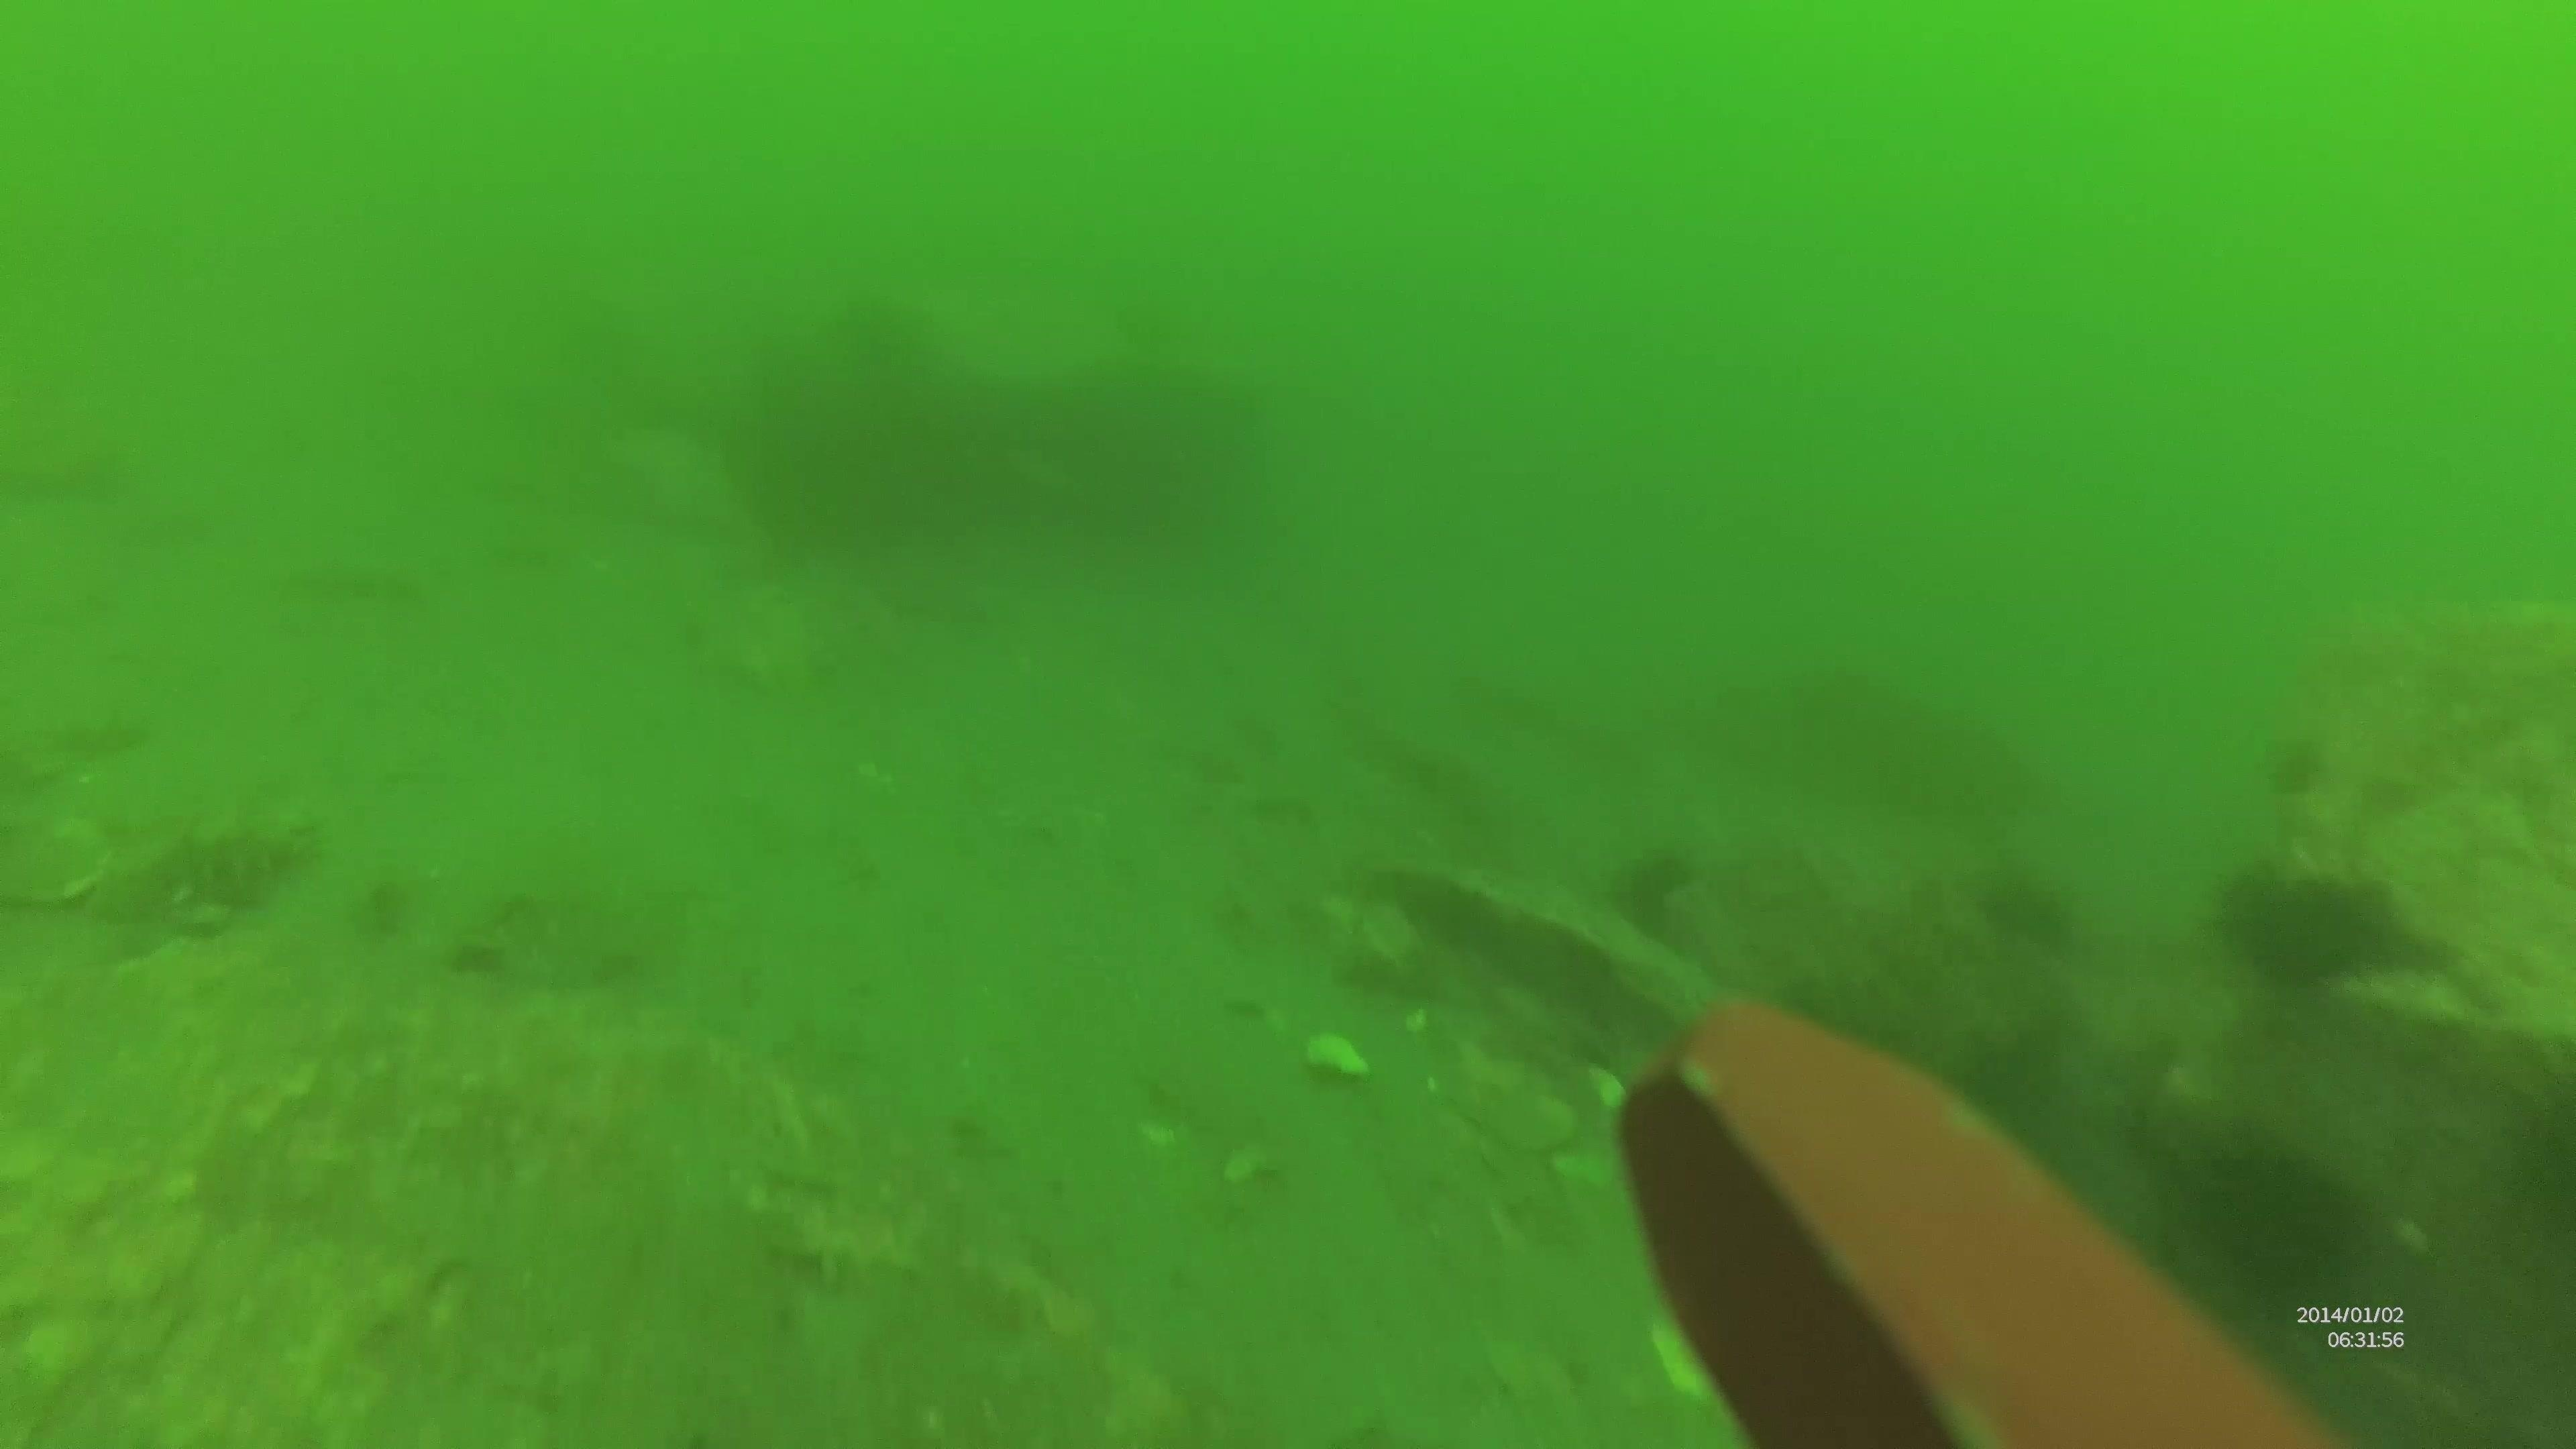echinus: (2167, 1131, 2374, 1313), (2212, 855, 2403, 996)
holothurian: (18, 798, 320, 931)
